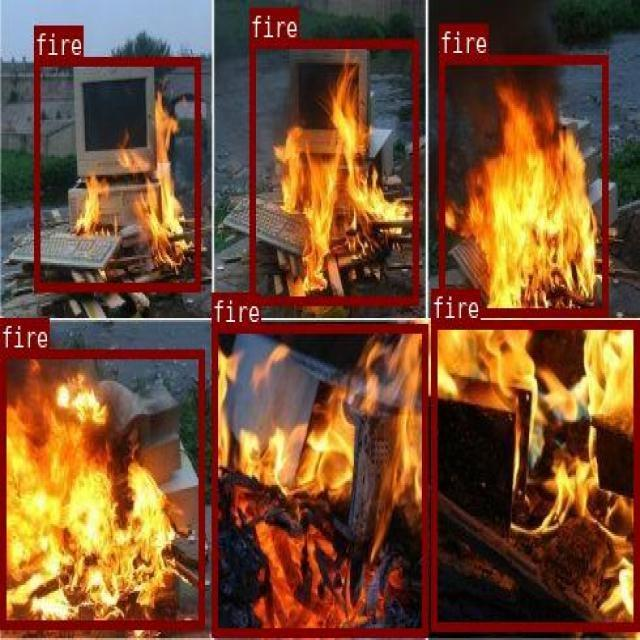fire: (211, 323, 426, 635), (430, 319, 637, 629), (0, 349, 202, 626), (249, 38, 417, 302), (438, 54, 607, 315), (34, 56, 200, 289)
